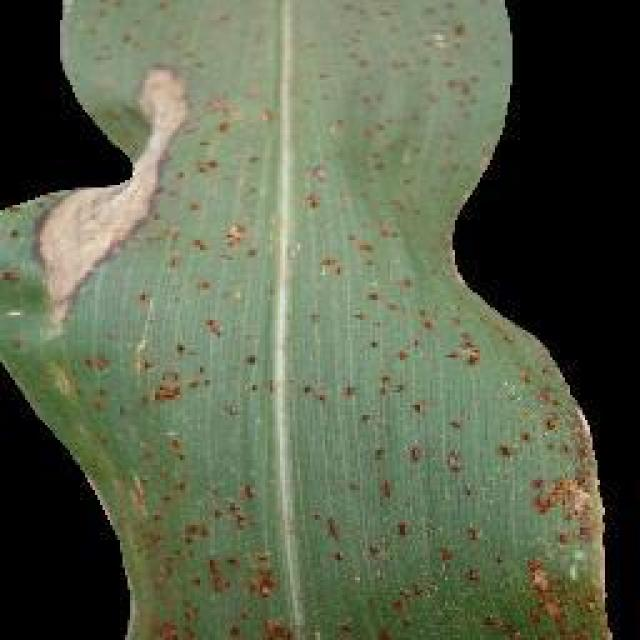Corn Common Rust: (138, 152, 610, 640)
